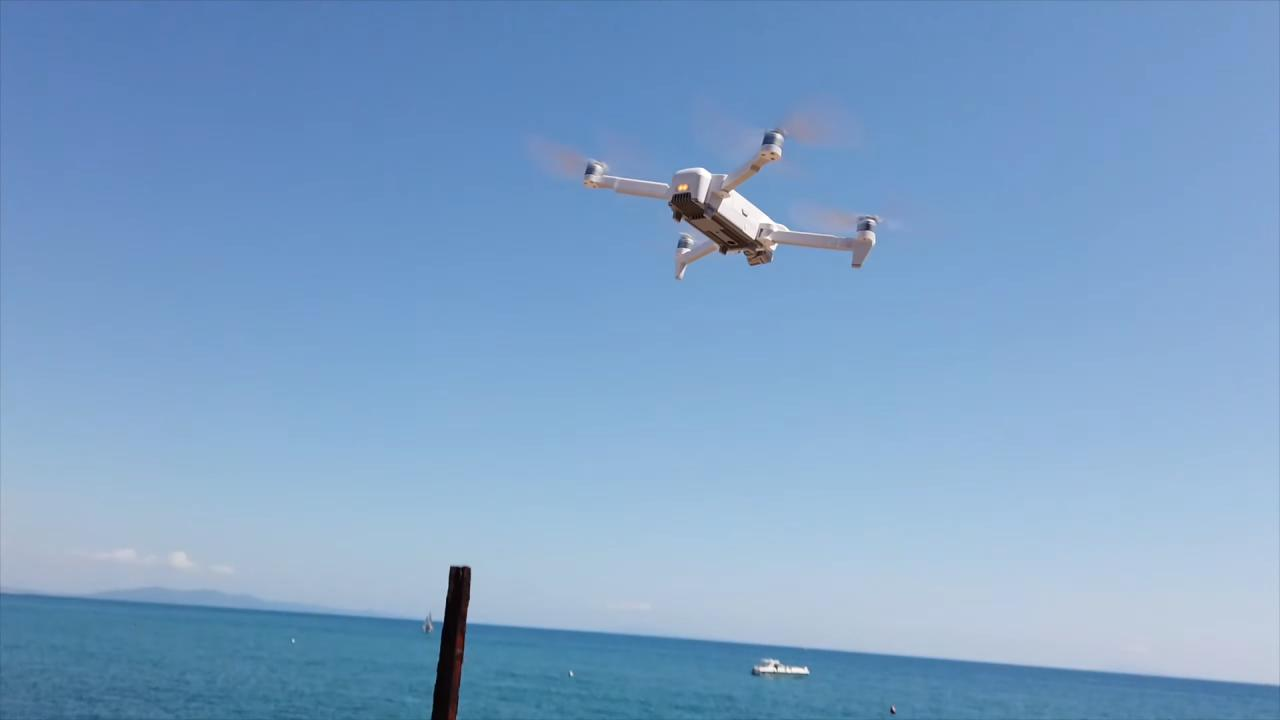Drone: (538, 97, 912, 292)
